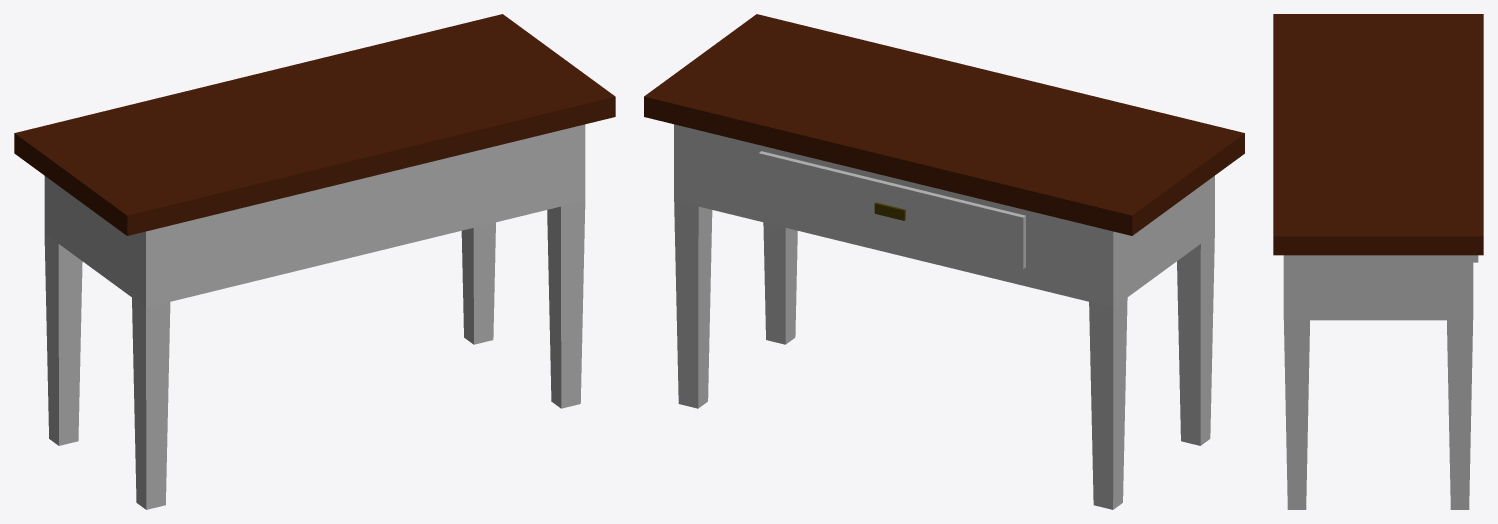
The model's file is poyta.fbx.
3 views of the same model, side by side, from view 1: azimuth 30°, elevation 25°; view 2: azimuth 150°, elevation 25°; view 3: azimuth 270°, elevation 25° (orthographic). The views are drawn at different scales.
Parts seen in each view (by area): view 1: pöytä; view 2: pöytä; view 3: pöytä.
Part boxes in pixels (x1,y1,x2,y2): pöytä: (14, 14, 615, 509); pöytä: (644, 14, 1244, 509); pöytä: (1273, 14, 1483, 509).
Bounding box in the file's own units: 110 × 66 × 44.
